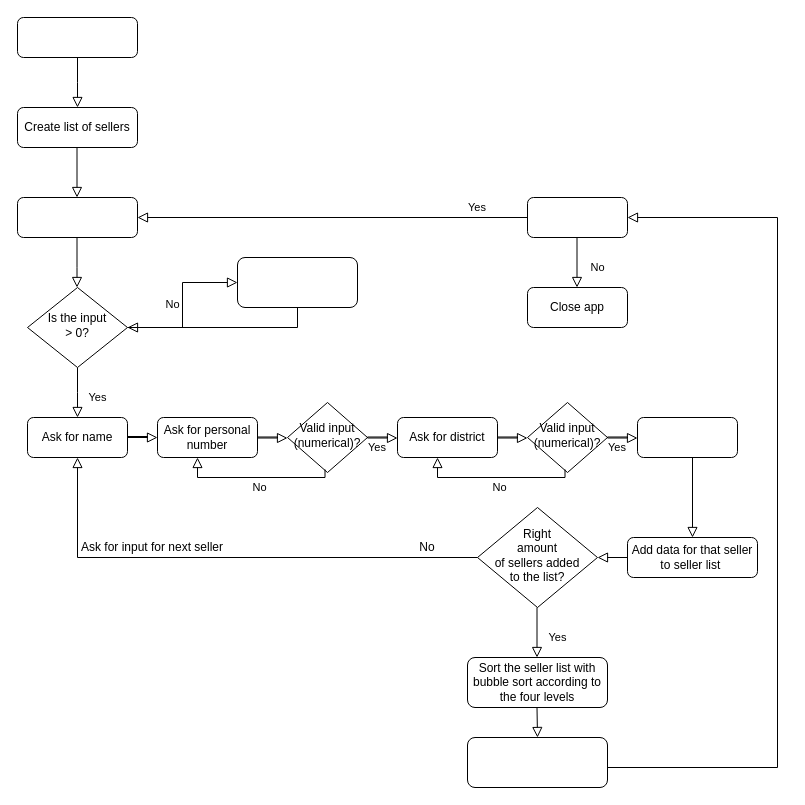
The diagram is 805 pixels wide and 805 high, and some of its shapes have lost their labels. The centre of each missing label's shape, as x and y in pixels:
Ask for amount of sellers to register: point (77, 217)
Ask for number of items sold: point (687, 437)
Ask user for a valid input ( > 0) until a valid input is given: point (297, 282)
Register more sellers?: point (577, 217)
Start: point (77, 37)
Write the sorted data to a text file and print out to console: point (537, 762)
